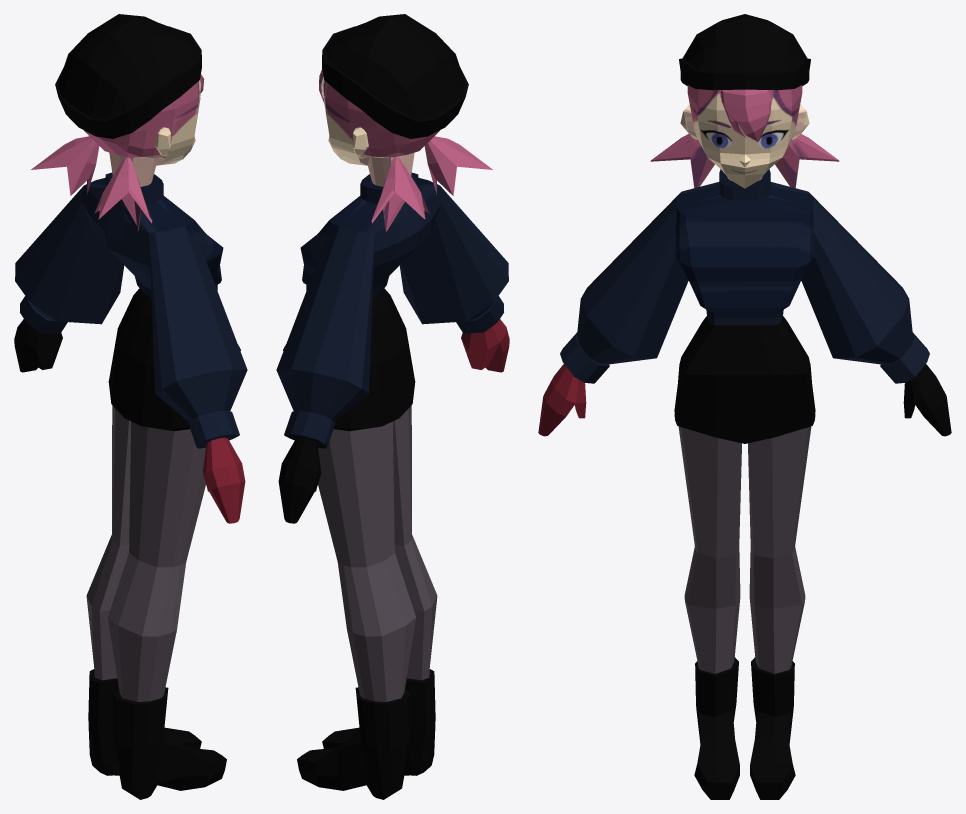
The model's file is robber.fbx.
3 renders of one model, left to right at view 1: azimuth 30°, elevation 25°; view 2: azimuth 150°, elevation 25°; view 3: azimuth 270°, elevation 25°, orthographic. The views are drawn at different scales.
Visible parts, largest first — view 1: Cube, Cube.001; view 2: Cube, Cube.001; view 3: Cube, Cube.001, Plane.
Part boxes in pixels (x1=…): Cube: x1=14, y1=79, x2=247, y2=799; Cube.001: x1=55, y1=14, x2=201, y2=138; Cube: x1=276, y1=79, x2=509, y2=799; Cube.001: x1=322, y1=14, x2=468, y2=138; Cube: x1=538, y1=85, x2=951, y2=799; Cube.001: x1=679, y1=14, x2=810, y2=90; Plane: x1=721, y1=89, x2=771, y2=141.
Size of the model in its own units: 152 by 744 by 372.
Materials: 1 (1 with a texture image).
